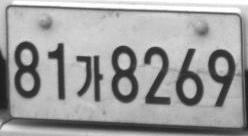1: (45, 42, 74, 100)
2: (143, 46, 171, 105)
6: (175, 47, 204, 106)
8: (110, 45, 139, 104), (13, 40, 41, 99)
9: (207, 48, 236, 106)
가: (75, 55, 103, 102)
